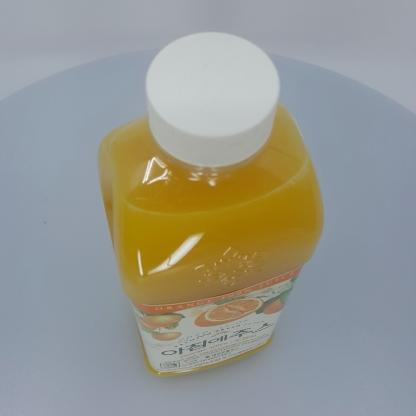----------950ML: (96, 32, 324, 377)
